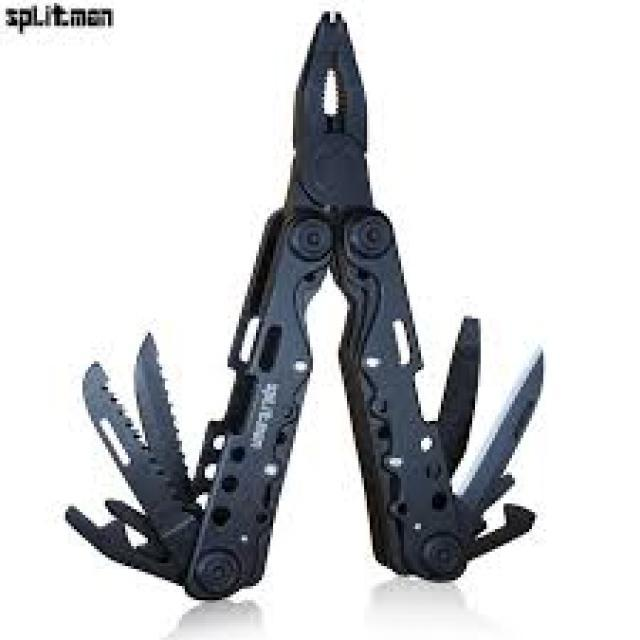pliers: (213, 4, 434, 580)
